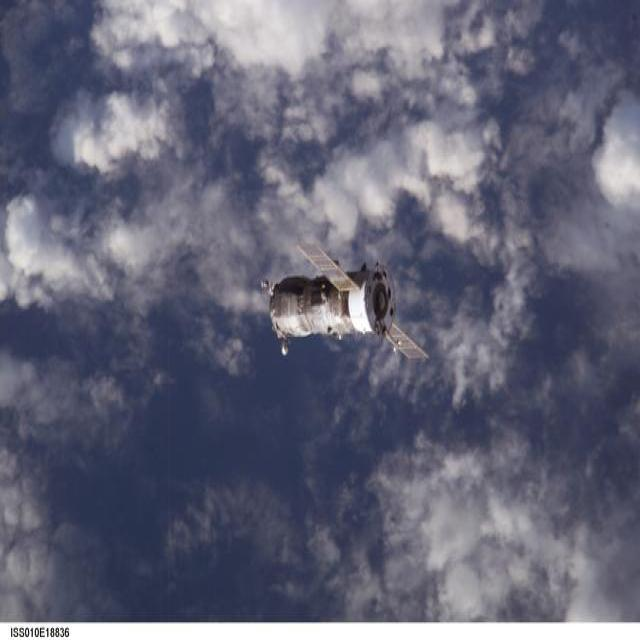satellite: (262, 243, 428, 360)
